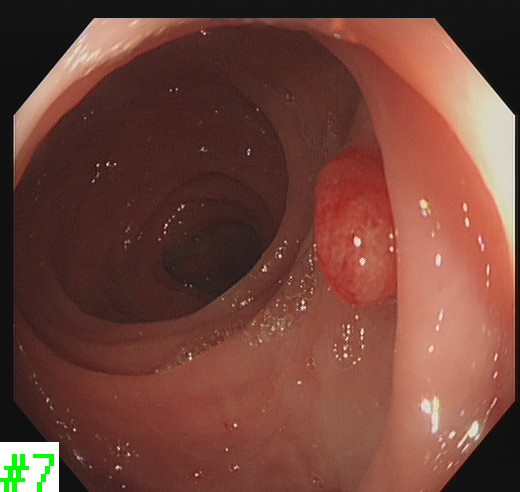adenoma: (310, 147, 401, 312)
